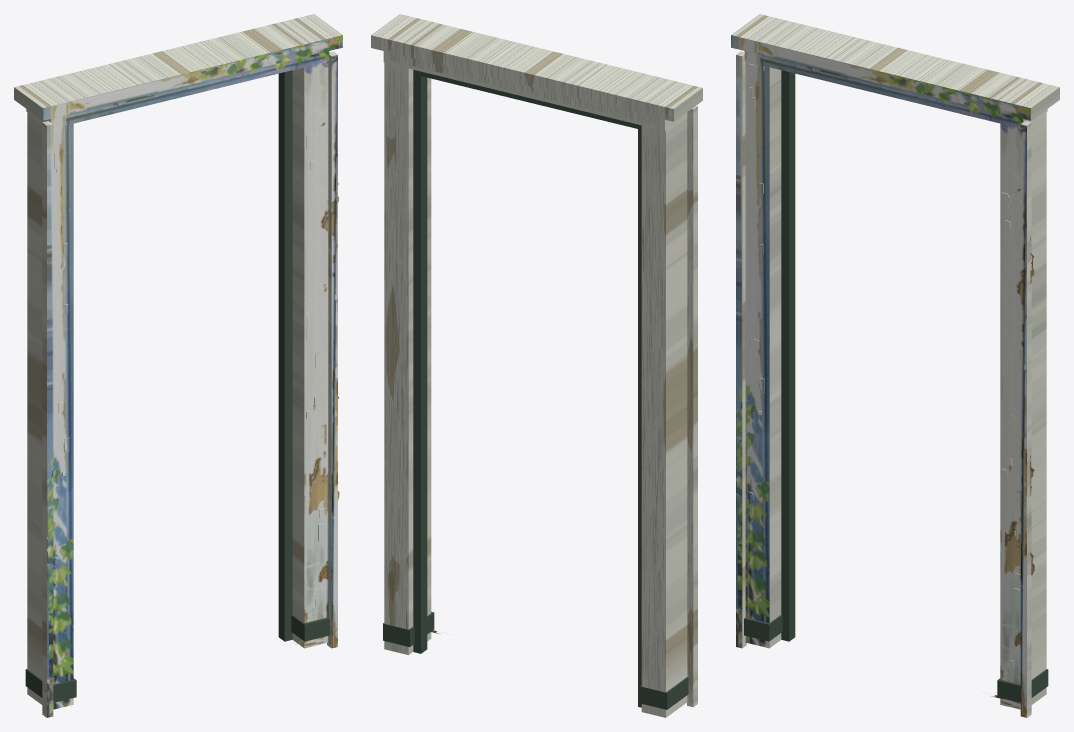
The model's file is DoorFrame.fbx.
3 renders of one model, left to right at view 1: azimuth 30°, elevation 25°; view 2: azimuth 150°, elevation 25°; view 3: azimuth 330°, elevation 25°, orthographic.
Visible parts, largest first — view 1: Geometry_283D72A6_003, Geometry_49F1B541_003, Geometry_5CED9BA5_003, Geometry_5FC5CEBB_003; view 2: Geometry_49F1B541_003, Geometry_5CED9BA5_003, Geometry_5FC5CEBB_003; view 3: Geometry_283D72A6_003, Geometry_49F1B541_003, Geometry_5CED9BA5_003, Geometry_5FC5CEBB_003.
Boxes of the visible parts, x1,y1,x2,y2 form: Geometry_283D72A6_003: [43, 35, 342, 717]; Geometry_49F1B541_003: [26, 67, 304, 704]; Geometry_5CED9BA5_003: [14, 14, 342, 717]; Geometry_5FC5CEBB_003: [25, 70, 329, 702]; Geometry_49F1B541_003: [383, 51, 687, 717]; Geometry_5CED9BA5_003: [371, 14, 702, 707]; Geometry_5FC5CEBB_003: [383, 70, 688, 709]; Geometry_283D72A6_003: [731, 35, 1034, 717]; Geometry_49F1B541_003: [769, 67, 1047, 704]; Geometry_5CED9BA5_003: [731, 14, 1059, 717]; Geometry_5FC5CEBB_003: [744, 70, 1048, 702].
Bounding box in the file's own units: 1.15 × 2.24 × 0.1915.
